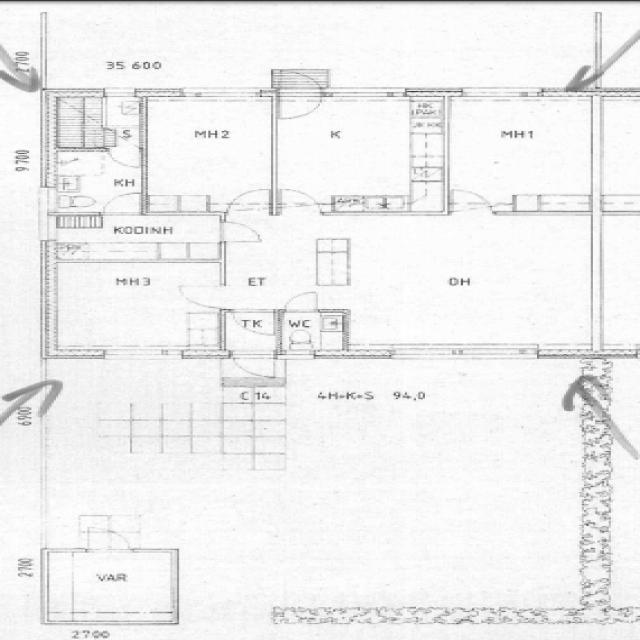door: (446, 96, 593, 212), (273, 70, 323, 120), (79, 526, 136, 556), (228, 349, 280, 380), (172, 282, 228, 310), (224, 309, 280, 337), (274, 186, 321, 213), (98, 190, 144, 217), (446, 187, 493, 213), (215, 220, 264, 244), (227, 186, 271, 212), (281, 290, 321, 314), (103, 146, 144, 169)
window: (382, 343, 542, 362), (451, 86, 570, 102), (91, 346, 190, 363), (323, 88, 408, 101), (177, 88, 266, 100)
zone: (332, 211, 600, 352), (273, 96, 442, 213), (446, 95, 593, 212), (51, 259, 222, 354), (140, 96, 273, 214), (43, 550, 175, 624), (53, 214, 219, 260), (50, 149, 142, 214), (51, 94, 142, 150), (277, 310, 346, 355), (223, 309, 280, 338)
